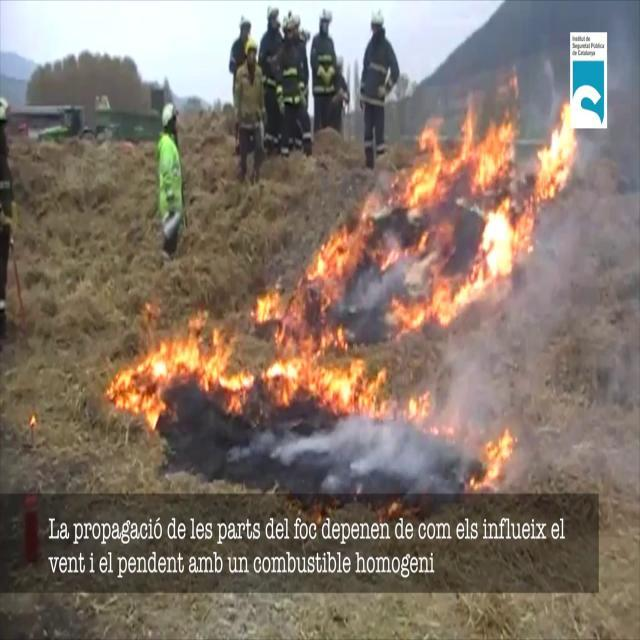Fire: (108, 212, 434, 426), (319, 99, 576, 306), (468, 423, 520, 492)
Smoke: (286, 406, 456, 489)
